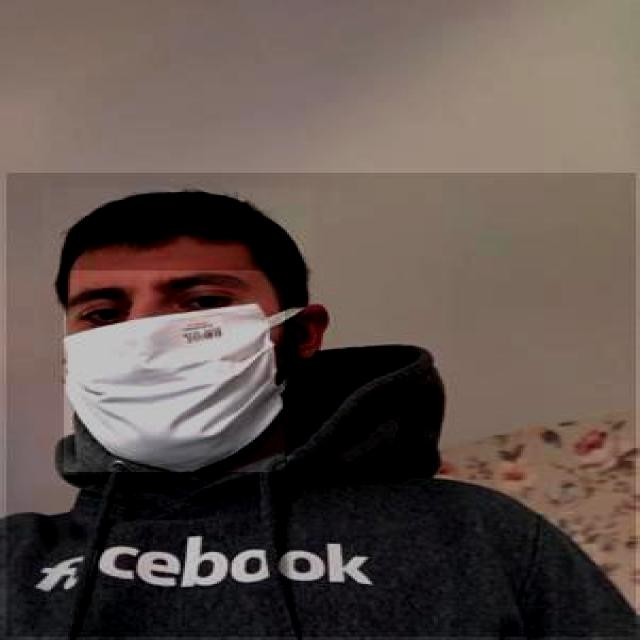face_mask: (64, 270, 285, 472)
head_nohelmet: (42, 188, 312, 270)
person: (6, 173, 638, 638)
